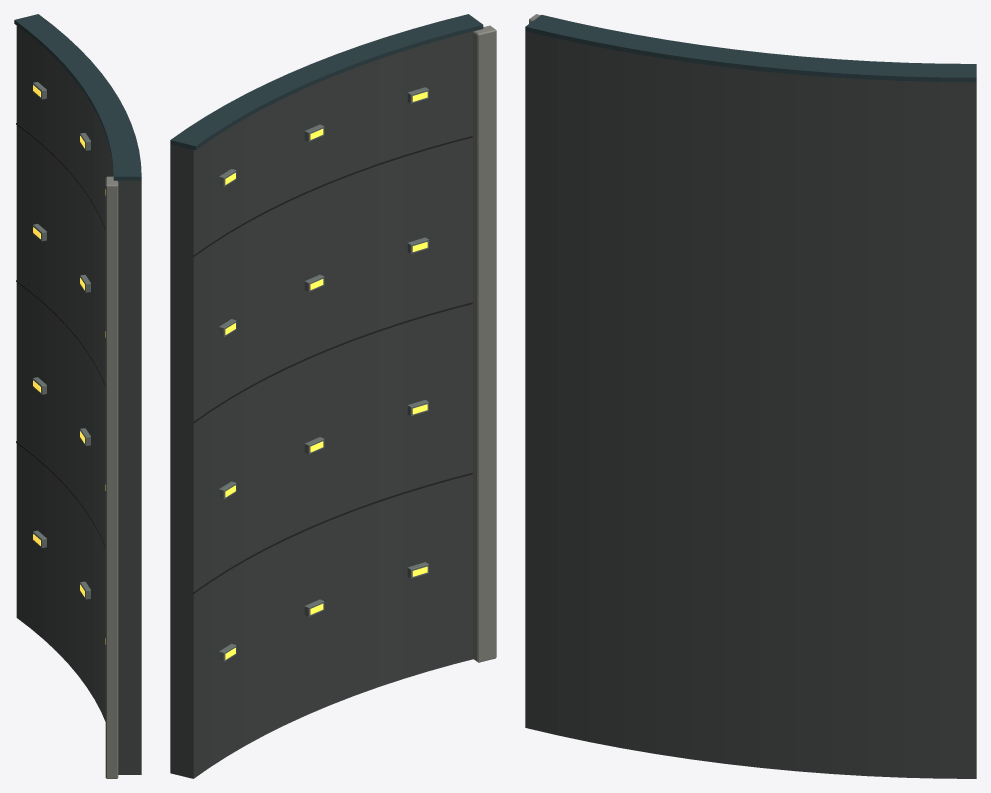
Rendered from core-shaft-wall.glb.
3 renders of one model, left to right at view 1: azimuth 30°, elevation 25°; view 2: azimuth 150°, elevation 25°; view 3: azimuth 270°, elevation 25°, orthographic. The views are drawn at different scales.
Parts seen in each view (by area): view 1: core-shaft-wall__core-shaft-wall__concrete-dark, core-shaft-wall__core-shaft-wall__concrete, core-shaft-wall__core-shaft-wall__steel, core-shaft-wall__core-shaft-wall__hardware, core-shaft-wall__core-shaft-wall__soot, core-shaft-wall__core-shaft-wall__signal-amber; view 2: core-shaft-wall__core-shaft-wall__concrete-dark, core-shaft-wall__core-shaft-wall__concrete, core-shaft-wall__core-shaft-wall__steel, core-shaft-wall__core-shaft-wall__hardware, core-shaft-wall__core-shaft-wall__soot, core-shaft-wall__core-shaft-wall__signal-amber; view 3: core-shaft-wall__core-shaft-wall__concrete-dark, core-shaft-wall__core-shaft-wall__steel.
Part boxes in pixels (left/top/right/bottom): core-shaft-wall__core-shaft-wall__concrete-dark: left=16, top=26, right=141, bottom=774; core-shaft-wall__core-shaft-wall__concrete: left=105, top=176, right=118, bottom=778; core-shaft-wall__core-shaft-wall__steel: left=14, top=14, right=141, bottom=180; core-shaft-wall__core-shaft-wall__hardware: left=33, top=82, right=90, bottom=599; core-shaft-wall__core-shaft-wall__soot: left=16, top=123, right=105, bottom=547; core-shaft-wall__core-shaft-wall__signal-amber: left=33, top=85, right=105, bottom=644; core-shaft-wall__core-shaft-wall__concrete-dark: left=170, top=31, right=473, bottom=778; core-shaft-wall__core-shaft-wall__concrete: left=472, top=25, right=496, bottom=662; core-shaft-wall__core-shaft-wall__steel: left=170, top=14, right=483, bottom=150; core-shaft-wall__core-shaft-wall__hardware: left=219, top=87, right=428, bottom=661; core-shaft-wall__core-shaft-wall__soot: left=193, top=136, right=472, bottom=593; core-shaft-wall__core-shaft-wall__signal-amber: left=225, top=91, right=427, bottom=659; core-shaft-wall__core-shaft-wall__concrete-dark: left=525, top=31, right=976, bottom=778; core-shaft-wall__core-shaft-wall__steel: left=525, top=15, right=976, bottom=82.
Size of the model in its own units: 3.28 by 15.6 by 9.1.
